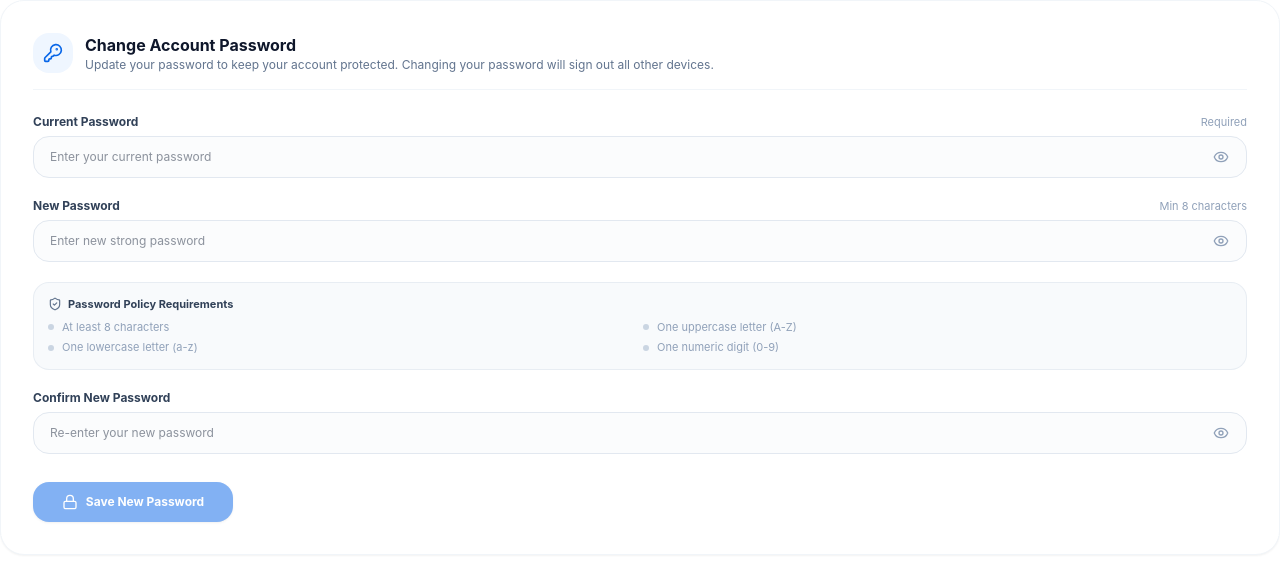
Test case: ChangePasswordForm Component › disables submit button when passwords do not satisfy policy or match
Expected: the button named "save new password" is disabled, [33,482,233,522]
Enter weak password
Step 1. Type "OldPass123!" into the password field with placeholder "Enter your current password" → (640, 157), box [33,136,1247,178]
Step 2. Type "weak" into the password field with placeholder "Enter new strong password" → (640, 241), box [33,220,1247,262]
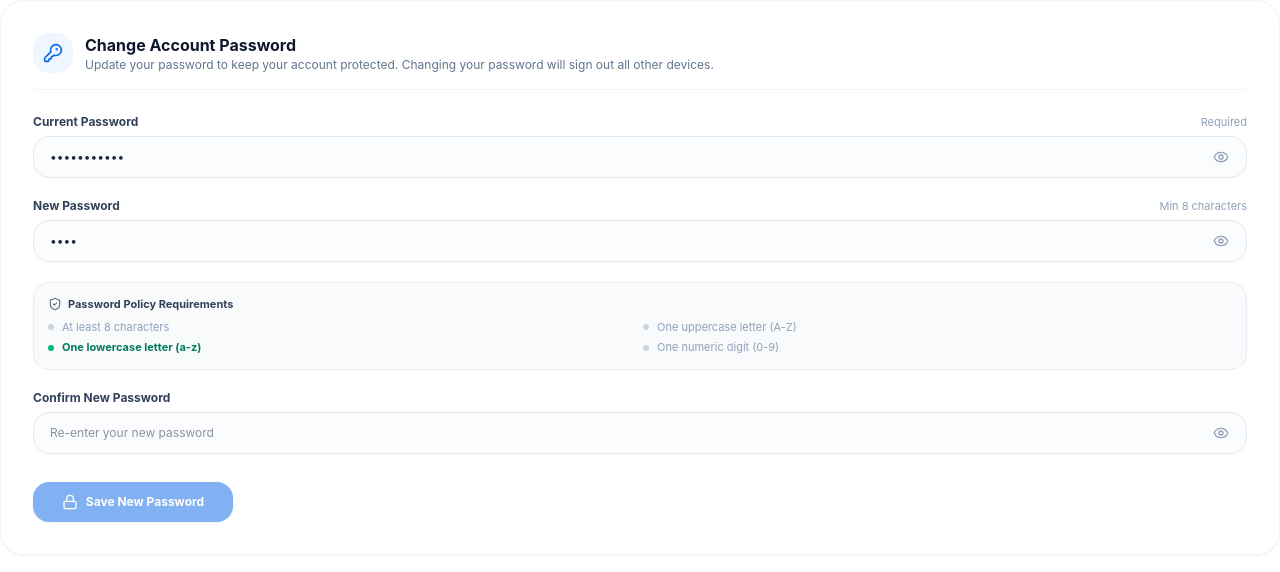
Step 3. Type "weak" into the password field with placeholder "Re-enter your new password" → (640, 433), box [33,412,1247,454]
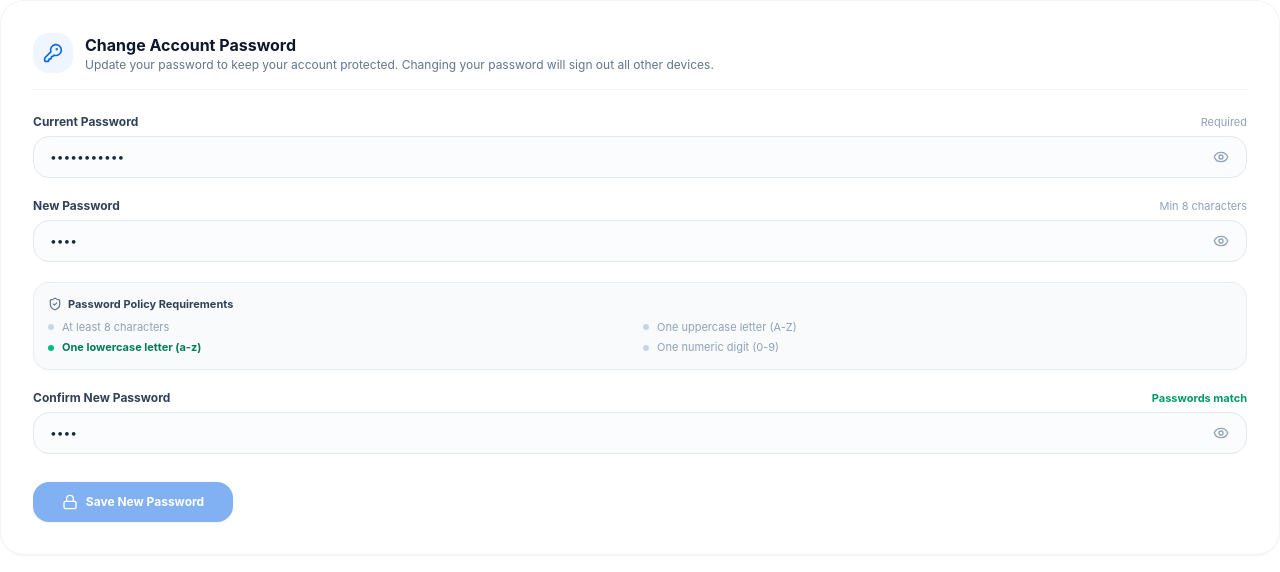
Expected: the button named "save new password" is disabled, [33,482,233,522]
Enter strong password but confirmation mismatch
Step 4. Type "StrongPass123!" into the 2nd password field with placeholder "Enter new strong password" → (640, 241), box [33,220,1247,262]
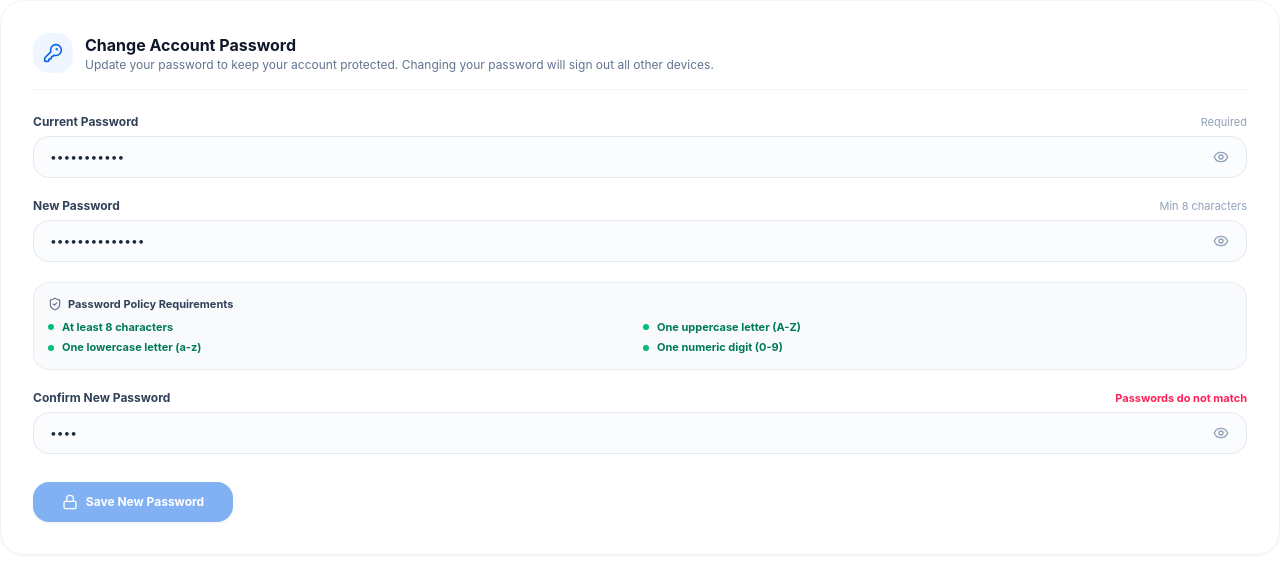
Step 5. Type "MismatchPass123!" into the 3rd password field with placeholder "Re-enter your new password" → (640, 433), box [33,412,1247,454]
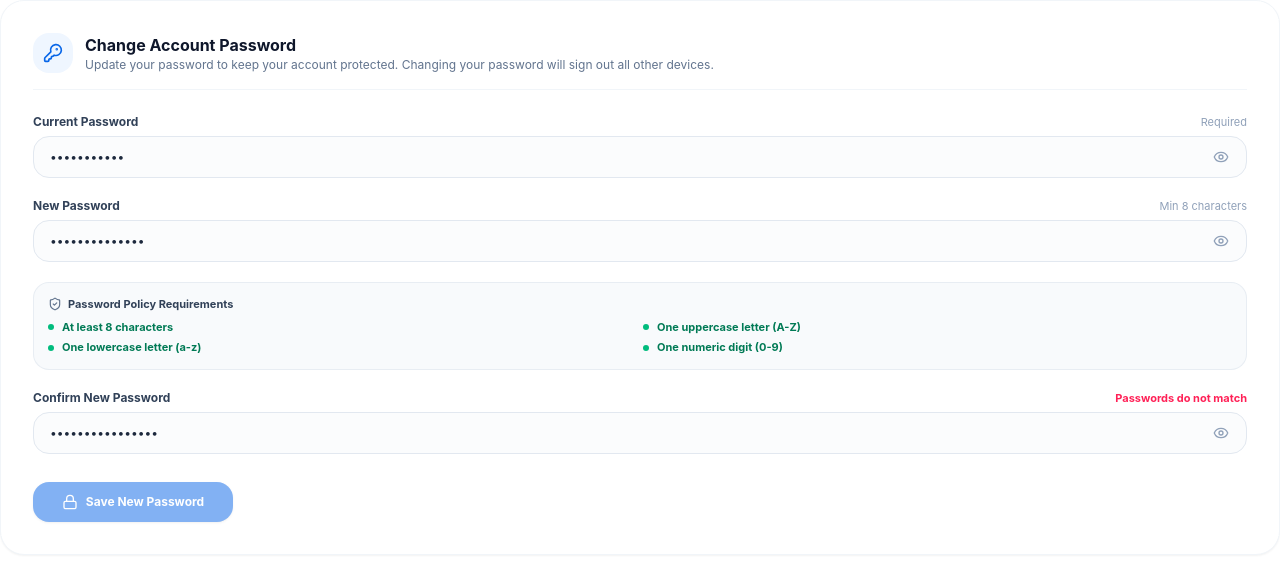
Expected: the button named "save new password" is disabled, [33,482,233,522]
Expected: the 12th text "Passwords do not match" is shown, [1115,391,1247,405]
Enter matching strong password identical to current password
Step 6. Type "StrongPass123!" into the 1st password field with placeholder "Enter your current password" → (640, 157), box [33,136,1247,178]
Step 7. Type "StrongPass123!" into the 3rd password field with placeholder "Re-enter your new password" → (640, 433), box [33,412,1247,454]
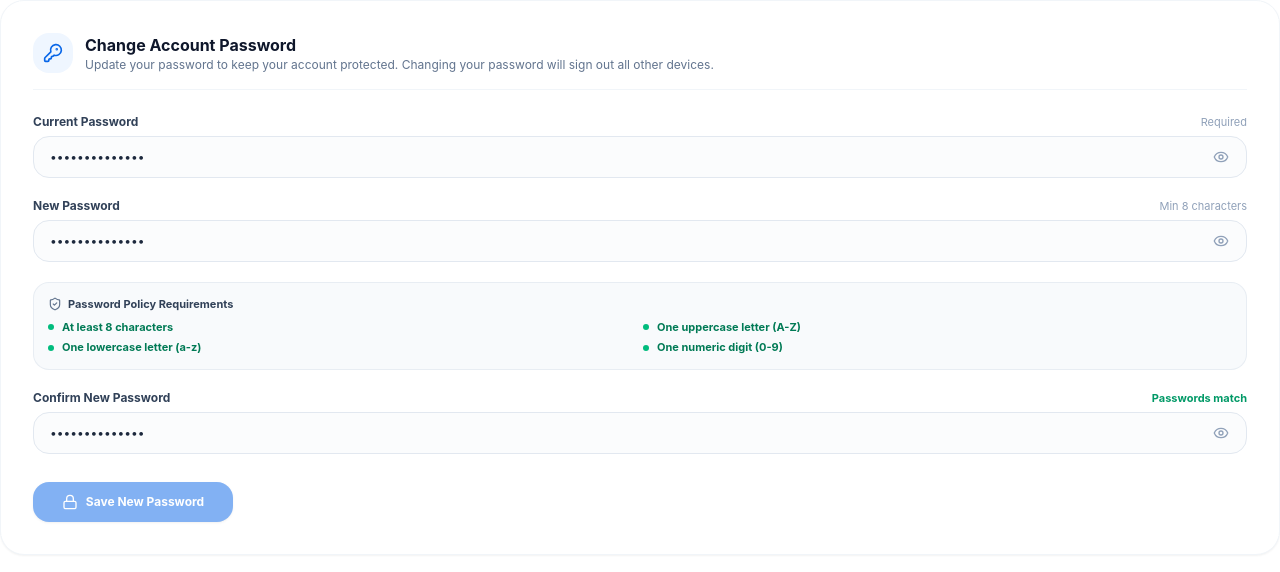
Expected: the button named "save new password" is disabled, [33,482,233,522]
Enter valid distinct strong password
Step 8. Type "OldPass123!" into the 1st password field with placeholder "Enter your current password" → (640, 157), box [33,136,1247,178]
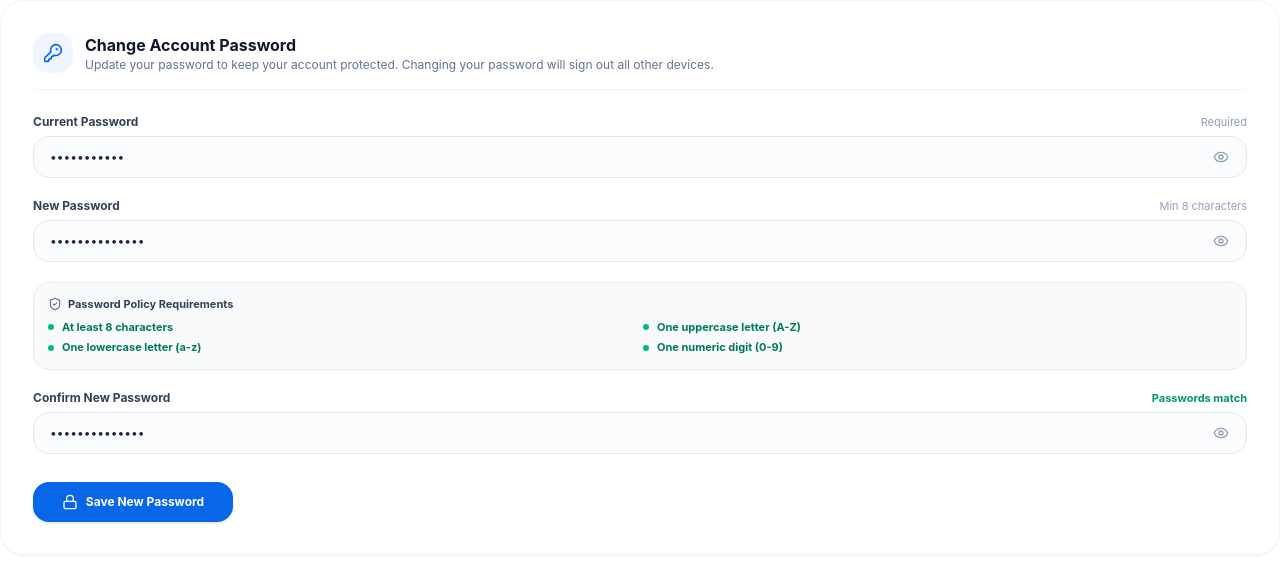
Expected: the 12th text "Passwords match" is shown, [1152,391,1247,405]
Expected: the button named "save new password" is enabled, [33,482,233,522]
